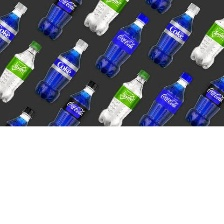bottle: (92, 10, 152, 80), (32, 37, 91, 105), (144, 1, 203, 68), (97, 68, 155, 130), (134, 69, 193, 127), (43, 76, 104, 130), (0, 38, 46, 106), (181, 72, 223, 133), (187, 13, 223, 79), (36, 0, 84, 41), (80, 0, 133, 37), (0, 0, 30, 55), (2, 103, 38, 132), (145, 0, 176, 16)
